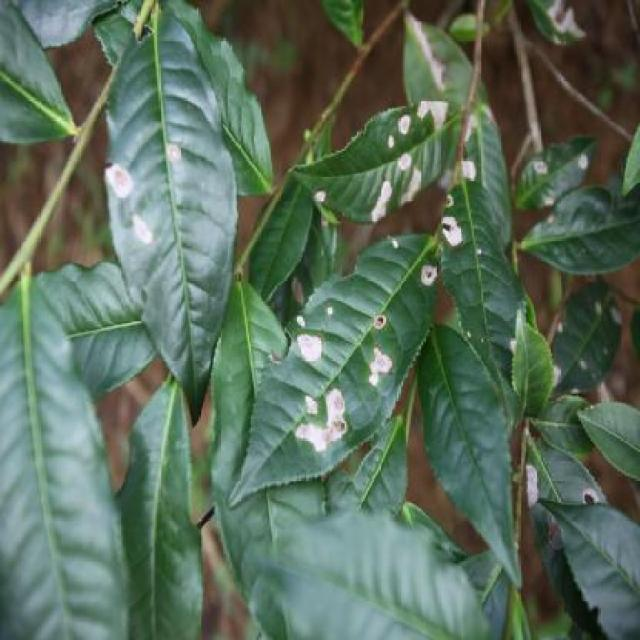Leaf rust of tea: (229, 242, 463, 530), (99, 74, 223, 391), (452, 175, 548, 434), (312, 109, 477, 248)
